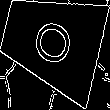O_W: (27, 14, 77, 70)
